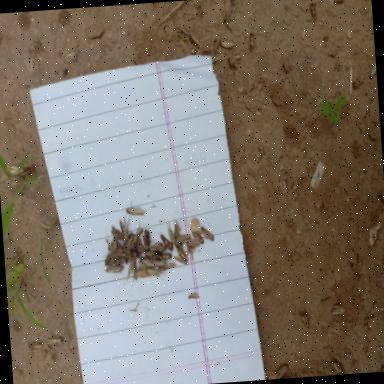pbw: (124, 256, 138, 280), (157, 231, 173, 252), (118, 216, 131, 240), (175, 243, 189, 262), (199, 225, 214, 242), (146, 266, 166, 278), (109, 225, 123, 242), (166, 224, 176, 247), (122, 230, 134, 248), (174, 232, 192, 244), (132, 227, 144, 244), (104, 264, 124, 274), (125, 207, 147, 216), (142, 228, 150, 250), (191, 231, 204, 244), (146, 244, 166, 252), (157, 262, 177, 270), (172, 220, 180, 238), (140, 258, 154, 268), (173, 254, 187, 264), (110, 234, 118, 251), (156, 250, 173, 258), (134, 270, 150, 278), (186, 240, 194, 256), (152, 258, 166, 266), (144, 250, 158, 258)
